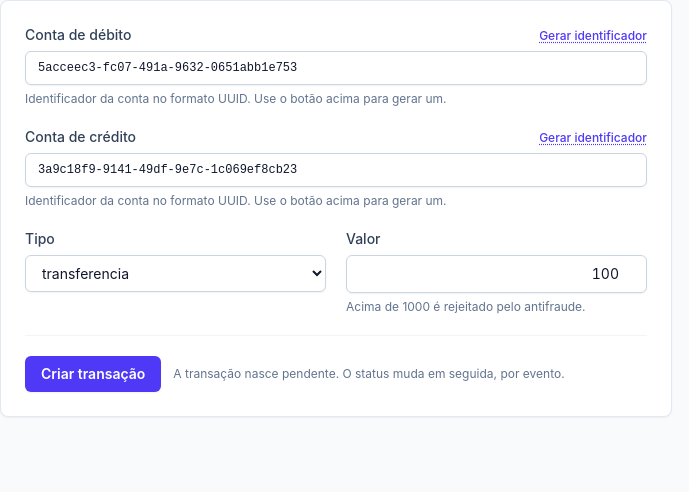
Test: falha na criacao › comunica o erro e preserva o que foi digitado
expect the button "Criar transação" is enabled: met, box [25,356,161,392]
Replace the text in the field labelled "Conta de débito" with "3fa85f64-5717-4562-b3fc-2c963f66afa6" at (336, 68), box [25,51,647,85]
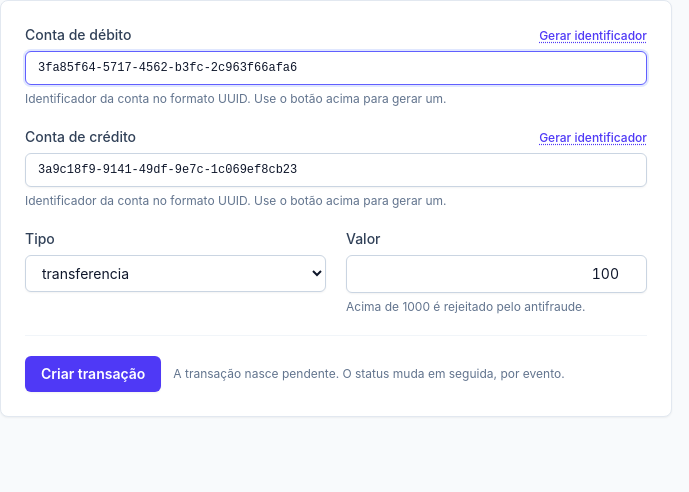
Replace the text in the field labelled "Conta de crédito" with "0f8fad5b-d9cb-469f-a165-70867728950e" at (336, 170), box [25,153,647,187]
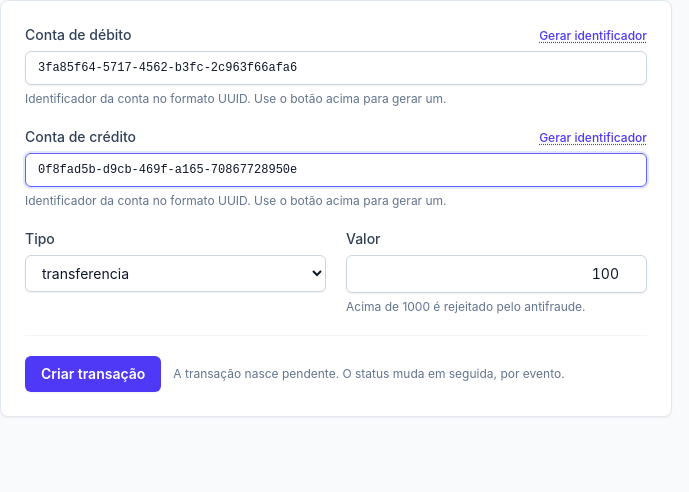
Replace the text in the number field labelled "Valor" with "120" at (496, 274), box [346,255,647,293]
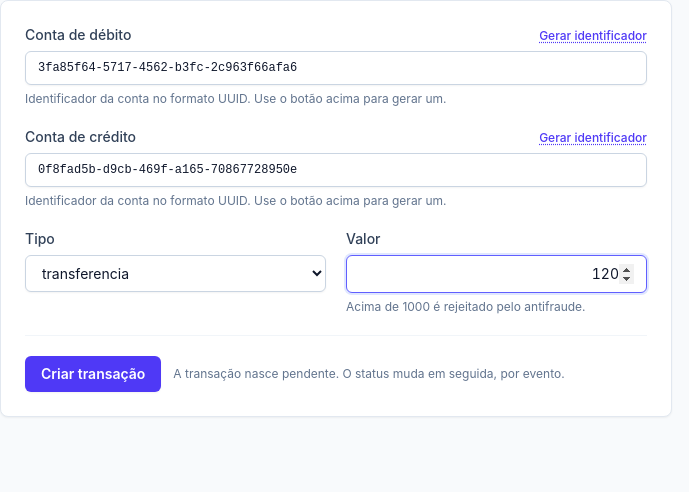
Click the button "Criar transação" at (93, 374), box [25,356,161,392]
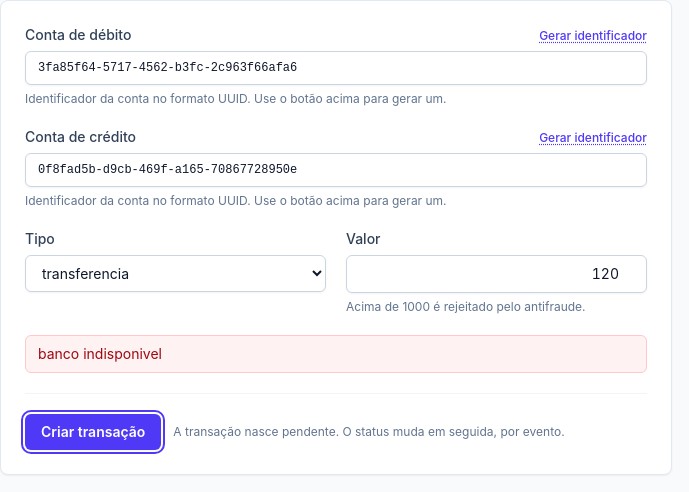
expect the text "banco indisponivel" is shown: met, box [25,335,647,373]
